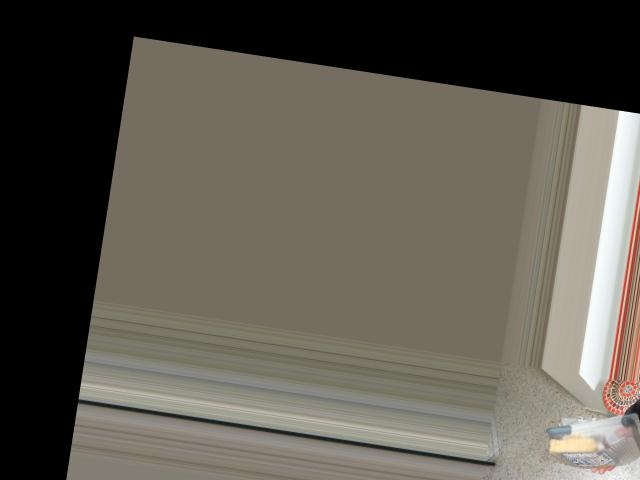cheese: (538, 392, 640, 476)
